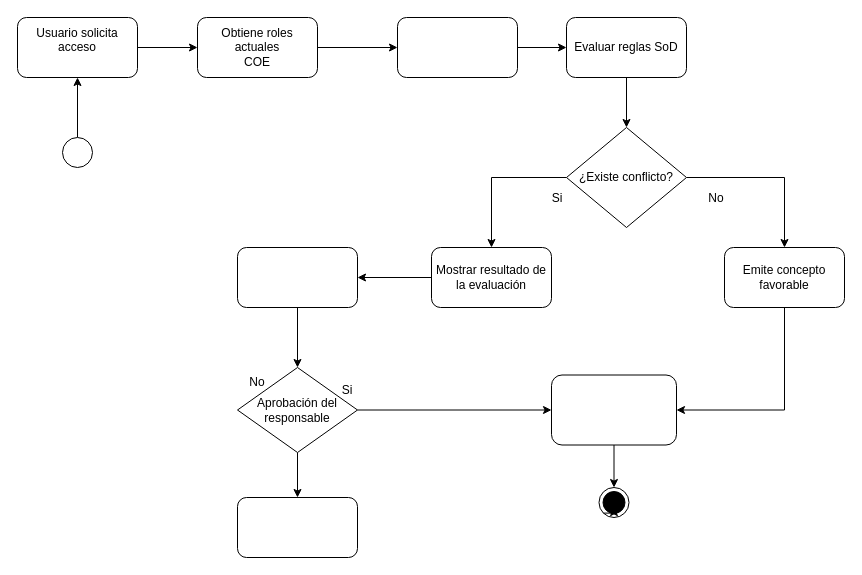
This 862x575 diagram has some shape labels left out. The centre of each missing label's shape, as x and y in pixels:
"Finaliza o devuelve la solicitud" goes at (297,527).
"Genera concepto para infraestructura TI" goes at (613,409).
"Registrar observaciones y emitir concepto" goes at (297,277).
"Simula combinación" goes at (457,47).
